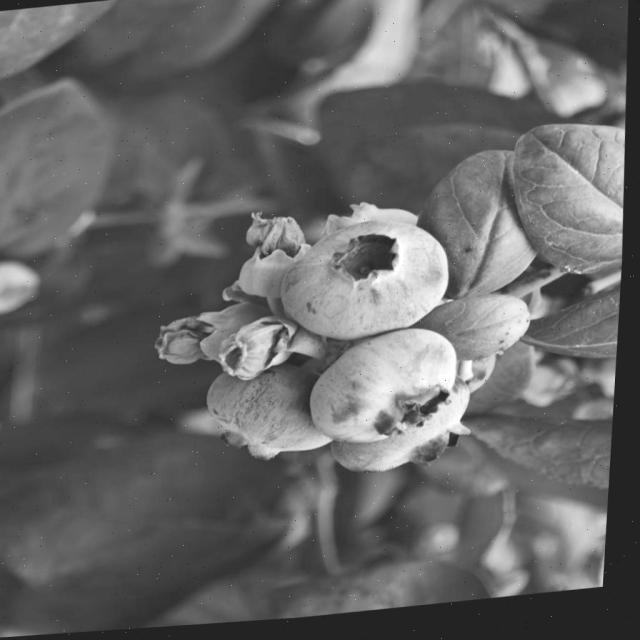RipeBlueBerry: (278, 216, 460, 352), (307, 331, 467, 456), (204, 348, 344, 472)
